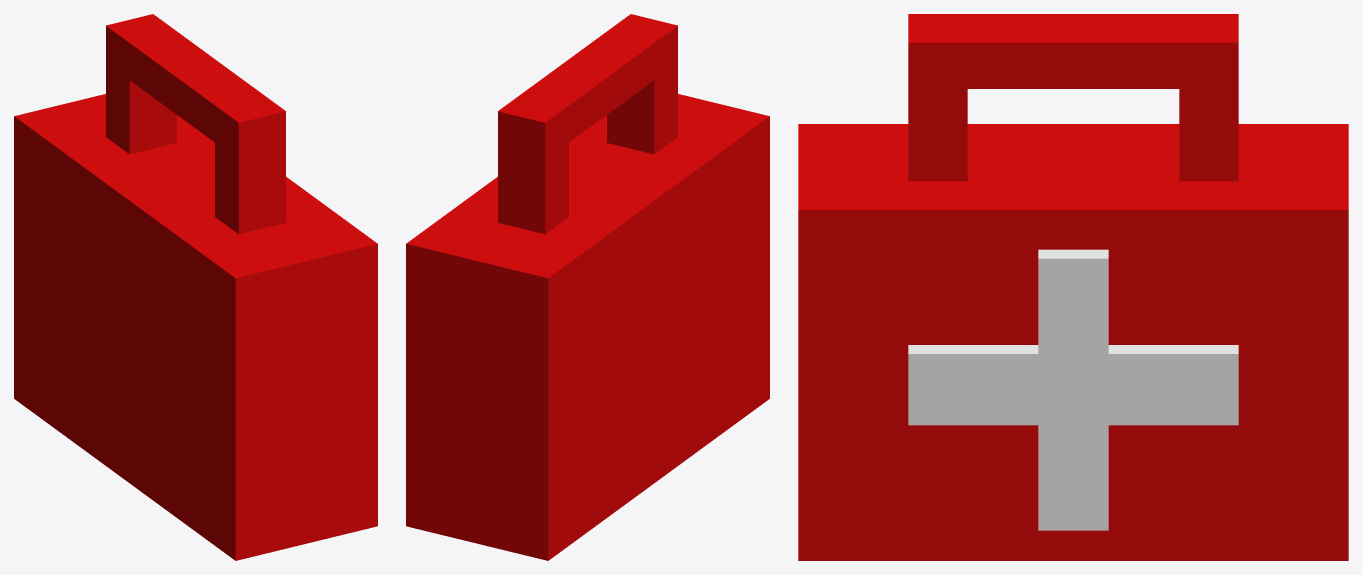
Rendered from AidKit.fbx.
3 views of the same model, side by side, from view 1: azimuth 30°, elevation 25°; view 2: azimuth 150°, elevation 25°; view 3: azimuth 270°, elevation 25° (orthographic). The views are drawn at different scales.
Visible parts, largest first — view 1: White; view 2: White; view 3: White.
Part boxes in pixels (x1,y1,x2,y2): White: (14,14,377,560); White: (406,14,769,560); White: (798,14,1348,560).
Bounding box in the file's own units: 2.21 × 5.3 × 5.4.
